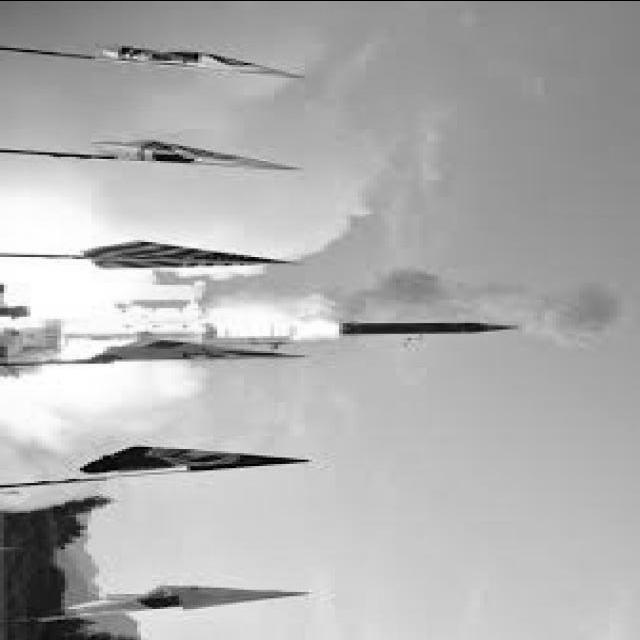Missile: (326, 319, 524, 337)
